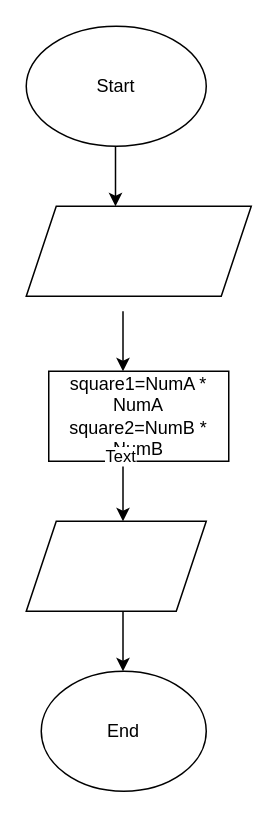
The diagram is 278 pixels wide and 818 high, and some of its shapes have lost their labels. The shapes that lost their labels are listed below. From the top down, each one's centre as x and y in pixels, then its label:
At (x=138, y=250): "Read NumA NumB sum".
At (x=115, y=565): "Write sum".
